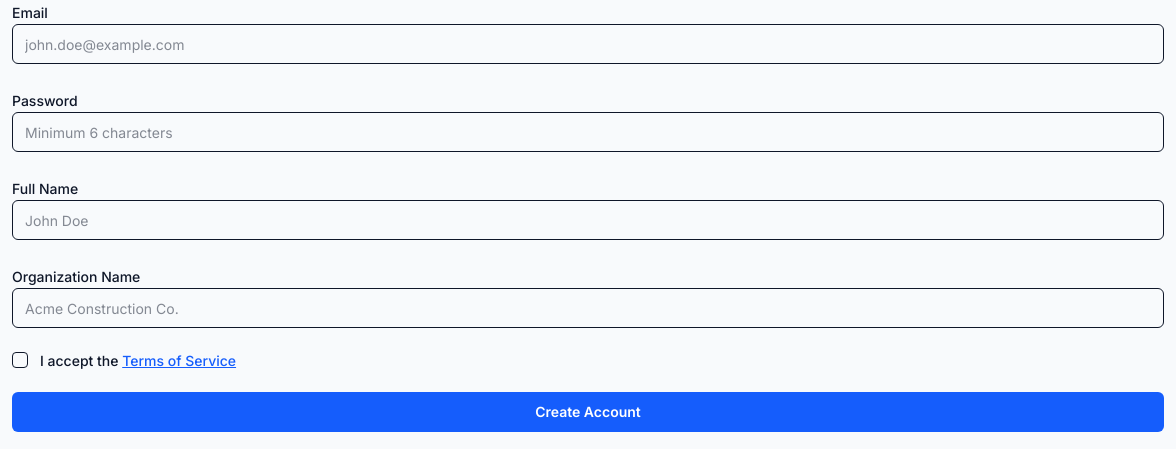
it: RegistrationForm › shows loading state during submission
The width and height of the screenshot is (1176, 449).
// Fill all fields
Type "test@example.com" into the field labelled "Email" at (588, 44), box [12,24,1164,64]
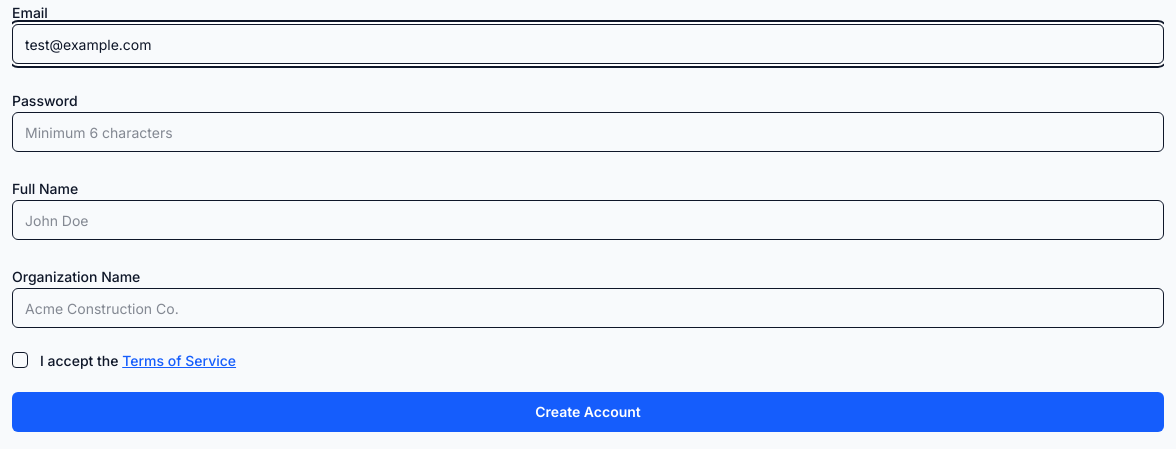
Type "password123" into the password field labelled "Password" at (588, 132), box [12,112,1164,152]
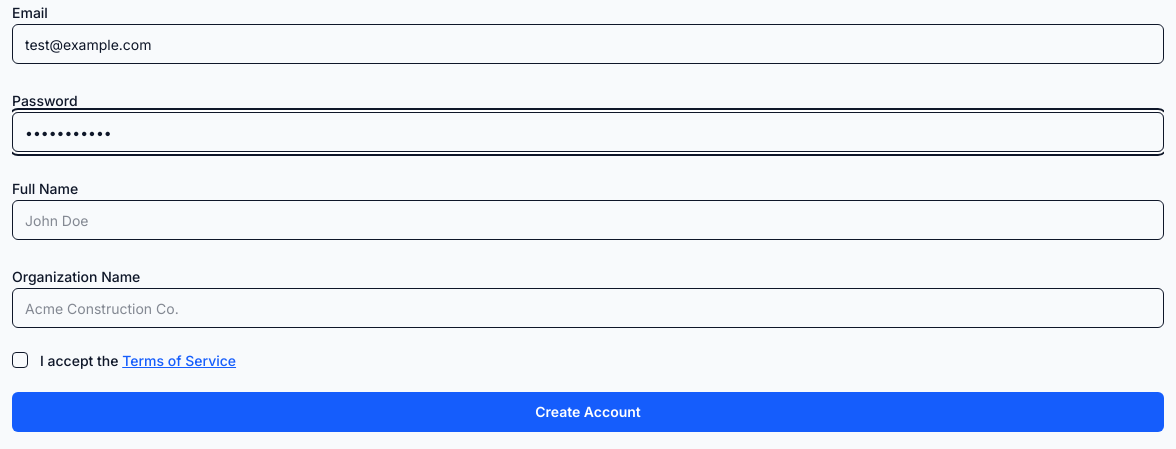
Type "Test User" into the field labelled "Full Name" at (588, 220), box [12,200,1164,240]
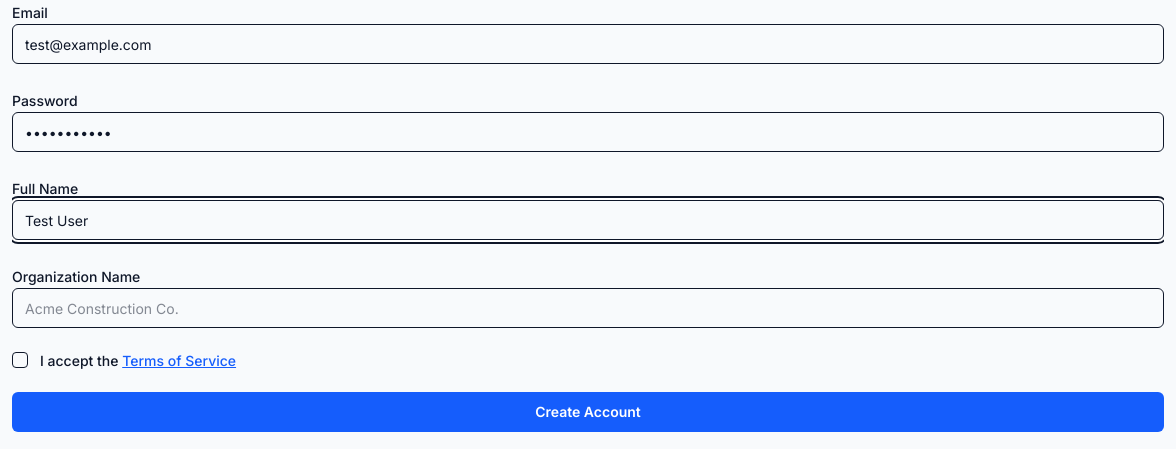
Type "Test Org" into the field labelled "Organization Name" at (588, 308), box [12,288,1164,328]
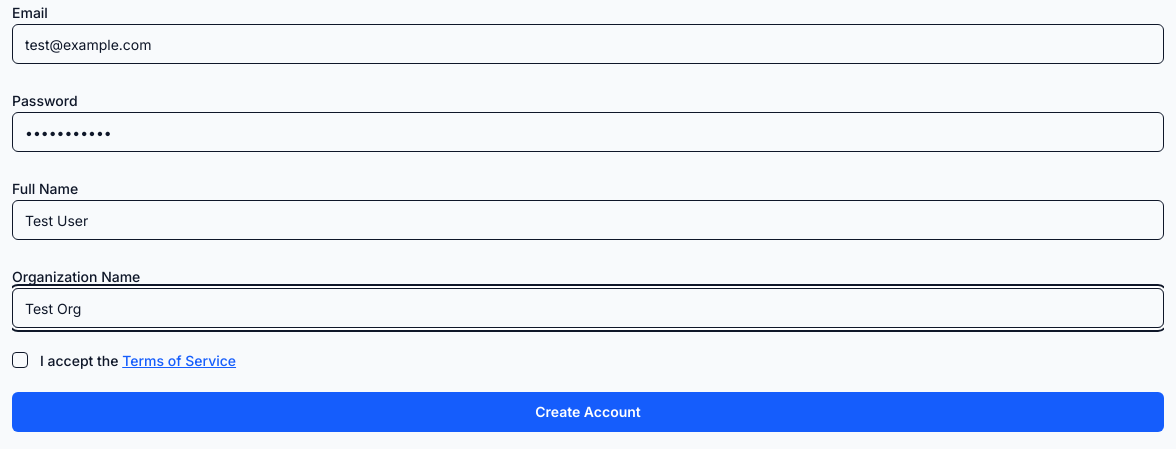
Click the checkbox named "accept the terms" at (20, 360), box [12,352,28,368]
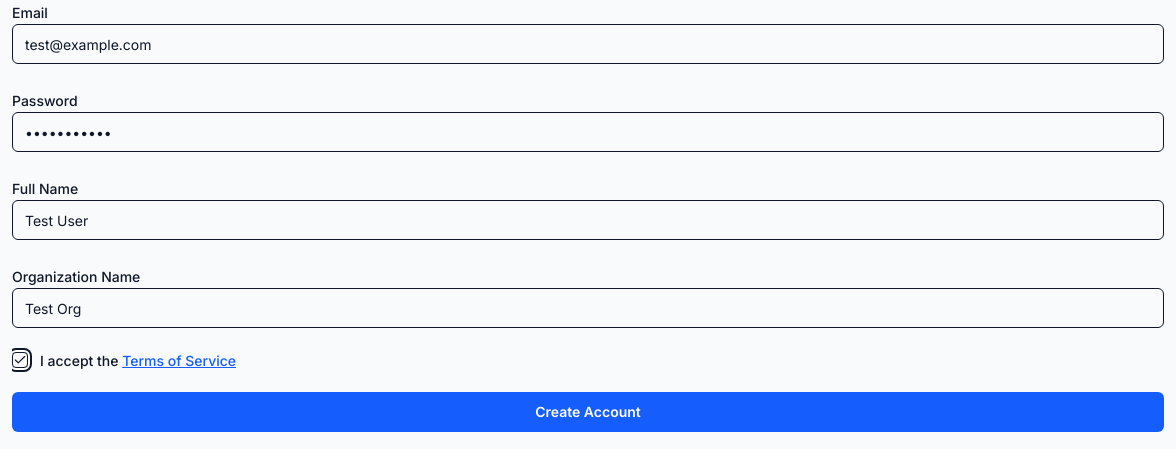
Click the button "Create Account" at (588, 412), box [12,392,1164,432]
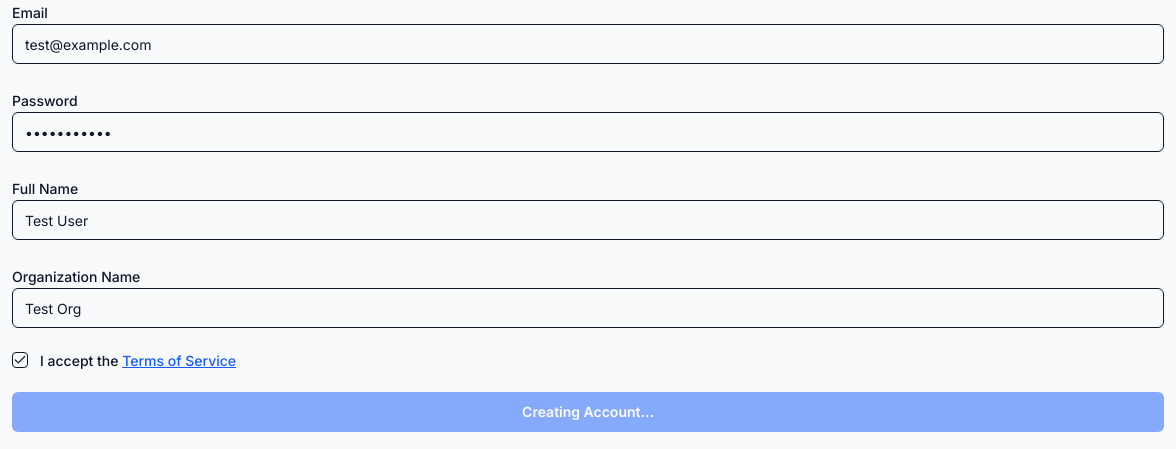
Result: the button named "create account" is disabled at [12,392,1164,432]
